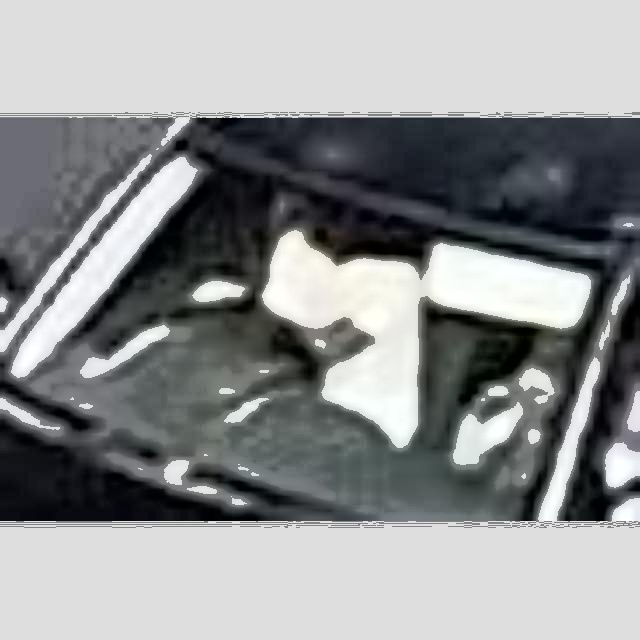tidak-pakai: (223, 195, 410, 417)
